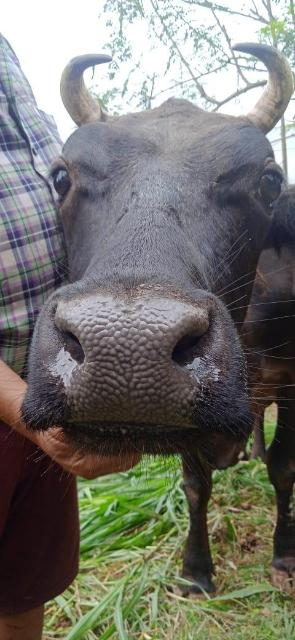Muzzle: (53, 299, 201, 423)
